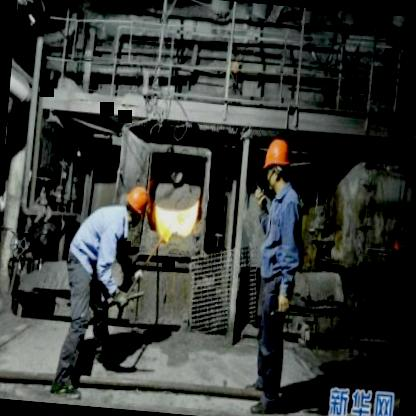helmet: (258, 134, 296, 200), (124, 186, 154, 223)
